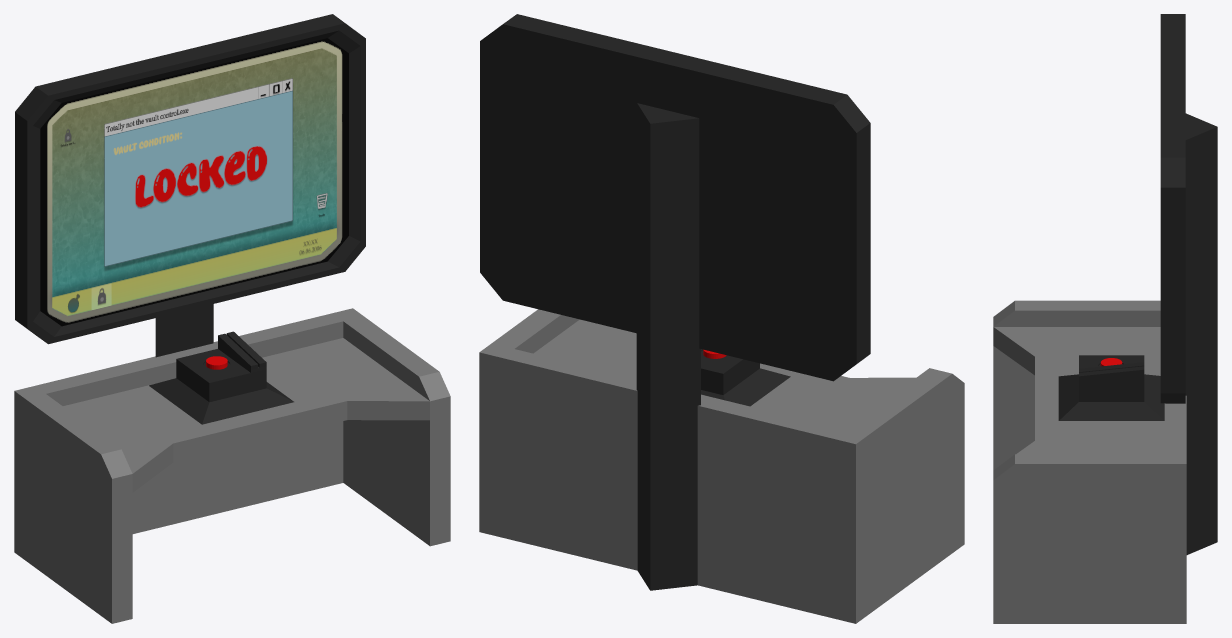
Rendered from Terminal.fbx.
The picture shows the model from 3 angles, left to right: view 1: azimuth 30°, elevation 25°; view 2: azimuth 150°, elevation 25°; view 3: azimuth 270°, elevation 25°; orthographic projection. The views are drawn at different scales.
Parts seen in each view (by area): view 1: Terminal; view 2: Terminal; view 3: Terminal.
Boxes of the visible parts, x1,y1,x2,y2 form: Terminal: (14,14,450,623); Terminal: (479,14,964,623); Terminal: (993,14,1217,623).
Size of the model in its own units: 200 by 260 by 116.
Materials: 4 (1 with a texture image).
